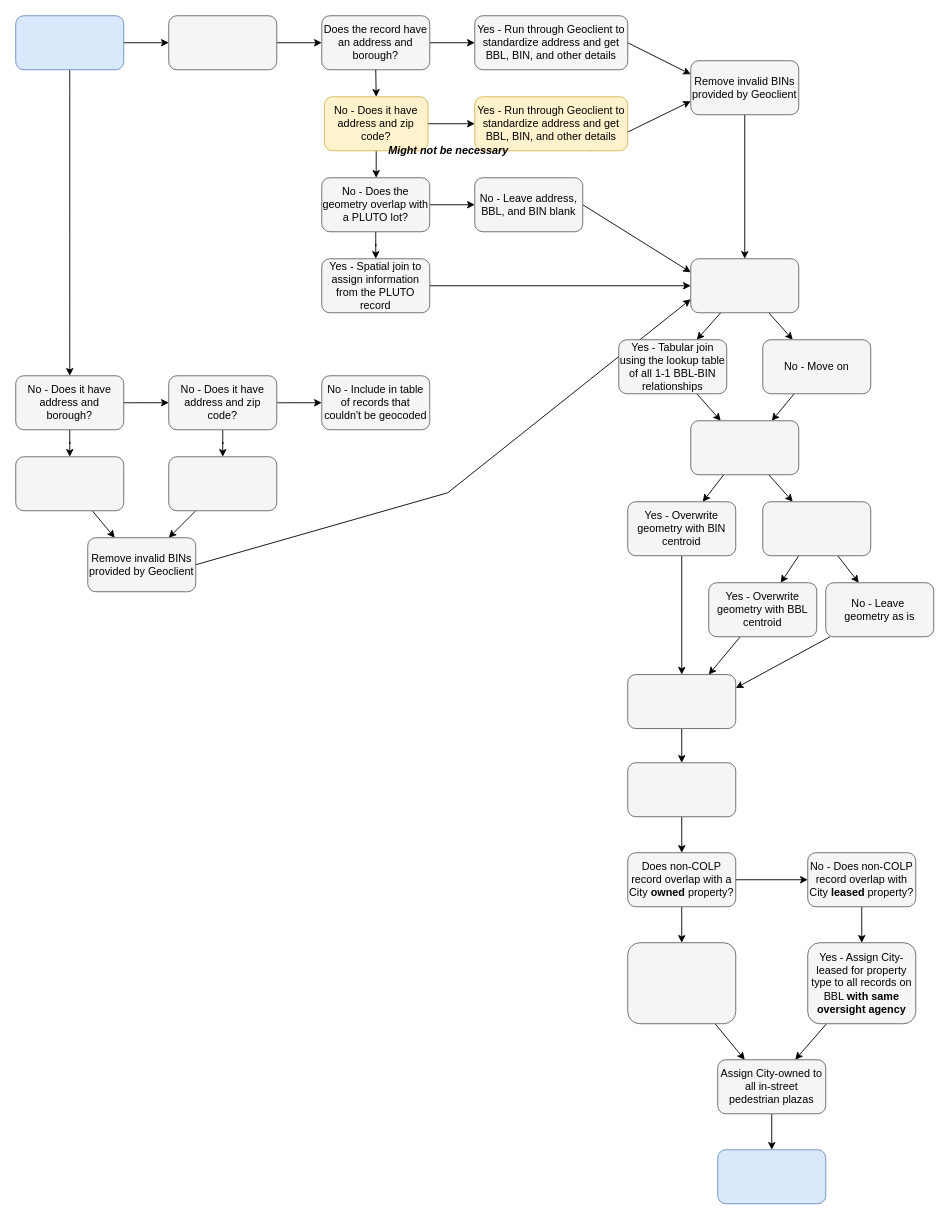
Some shapes in this 950 by 1220 pixel diagram are drawn without their labels. The box of each missing label's shape, as (x1, y1, x2, y2) in pixels:
Are there records that have been assigned a BBL but not a BIN?: (690, 258, 799, 313)
Calculate X, Y: (627, 674, 736, 729)
Does record have a BIN?: (690, 420, 799, 475)
Does record have a geometry?: (15, 15, 124, 70)
Move on to Deduping scripts: (717, 1149, 826, 1204)
No - Does record have a BBL?: (762, 501, 871, 556)
Spatial join with CD, NTA, Council, and USPS Zip Code: (627, 762, 736, 817)
Yes - Assign City-owned for property type to all records on BBL: (627, 942, 736, 1024)
Yes - Do spatial join with borough boundaries: (168, 15, 277, 70)
Yes - Run through G eoclient using address and zip code: (168, 456, 277, 511)
Yes - Run through Geoclient using address and borough: (15, 456, 124, 511)
